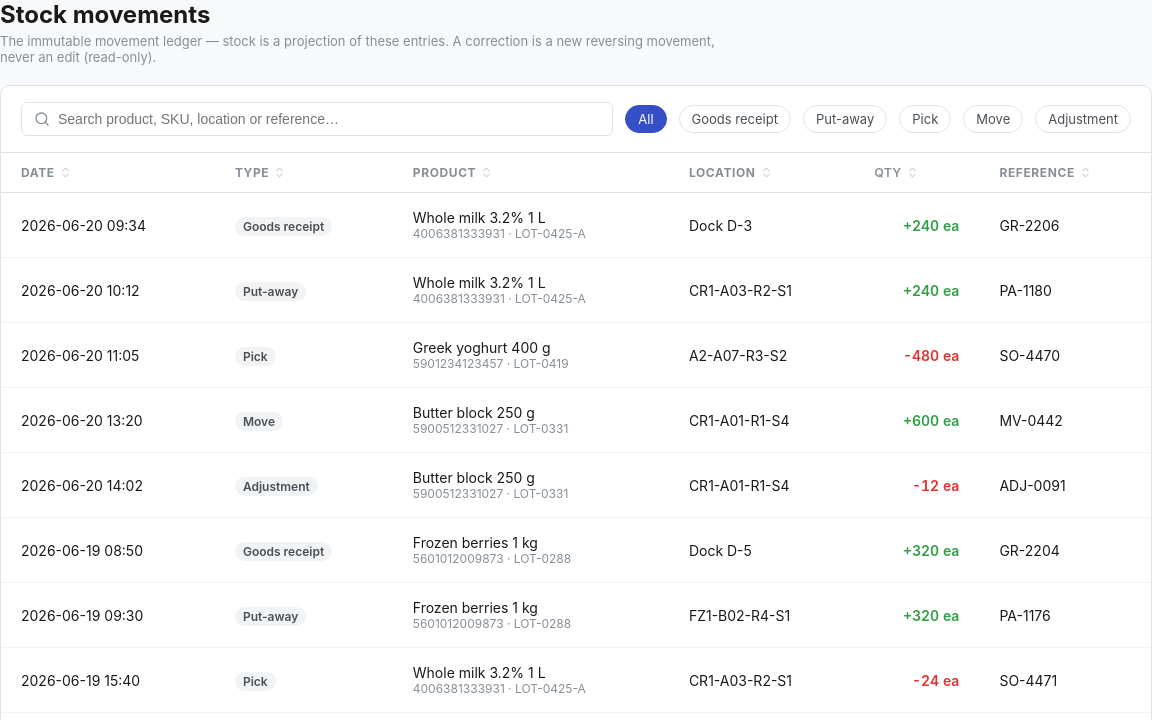
Test: MovementsScreen › filters by search text
expect the text "GR-2206" is shown: met, box x1=979 y1=192 x2=1151 y2=258
Step 1. Type "FZ1" into the field → (329, 119), box x1=58 y1=111 x2=600 y2=127
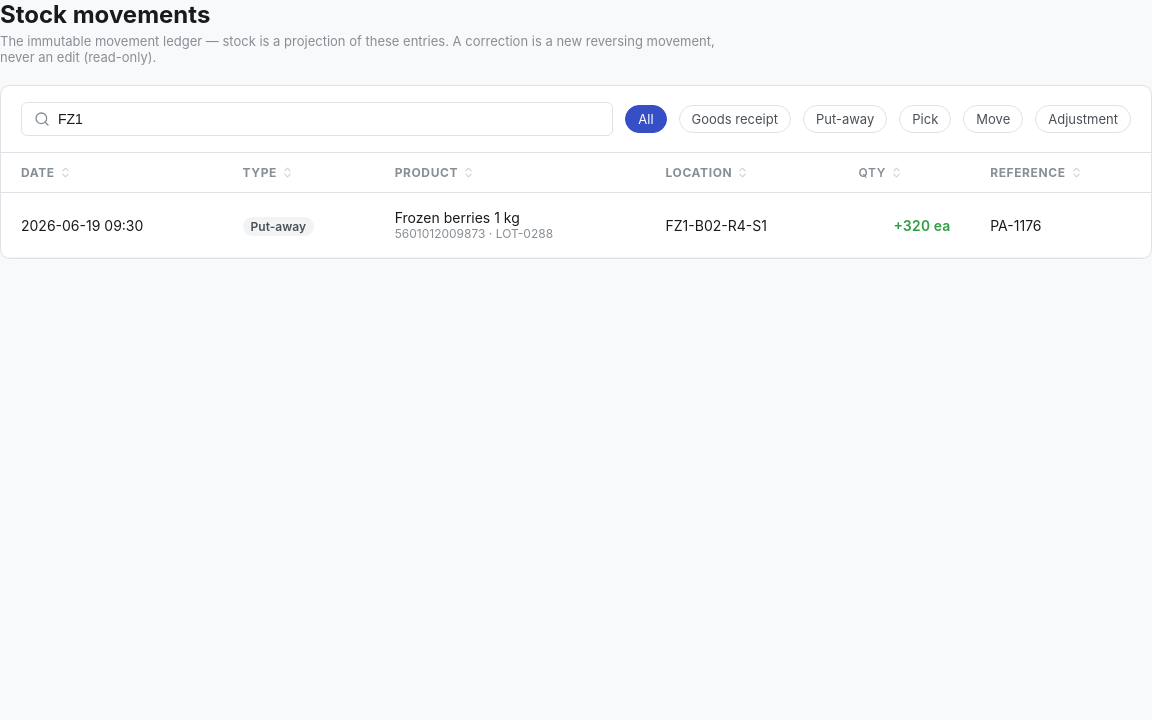
expect the text "PA-1176" is shown: met, box x1=970 y1=192 x2=1151 y2=258
expect the text "GR-2206" is gone: met
